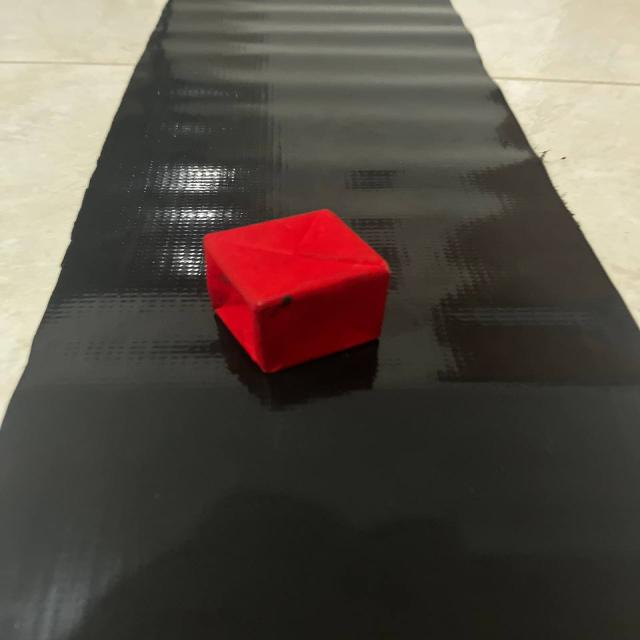Rojo: (185, 186, 401, 392)
